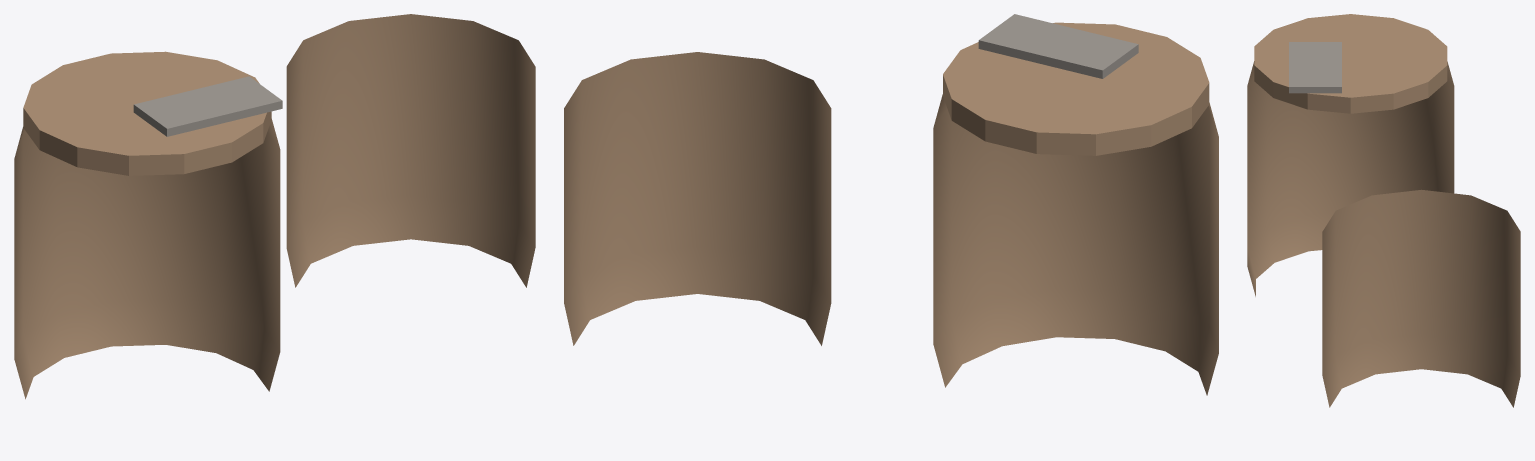
The model's file is trench-line-1917-ration-tin-09c9dfbd__24108.glb.
3 views of the same model, side by side, from view 1: azimuth 30°, elevation 25°; view 2: azimuth 150°, elevation 25°; view 3: azimuth 270°, elevation 25° (orthographic). The views are drawn at different scales.
Parts seen in each view (by area): view 1: ration-tin; view 2: ration-tin; view 3: ration-tin.
Boxes of the visible parts, <box> form: ration-tin: <box>14,14,535,399</box>; ration-tin: <box>564,14,1218,395</box>; ration-tin: <box>1247,14,1520,407</box>.
Bounding box in the file's own units: 0.276 × 0.149 × 0.1545.
